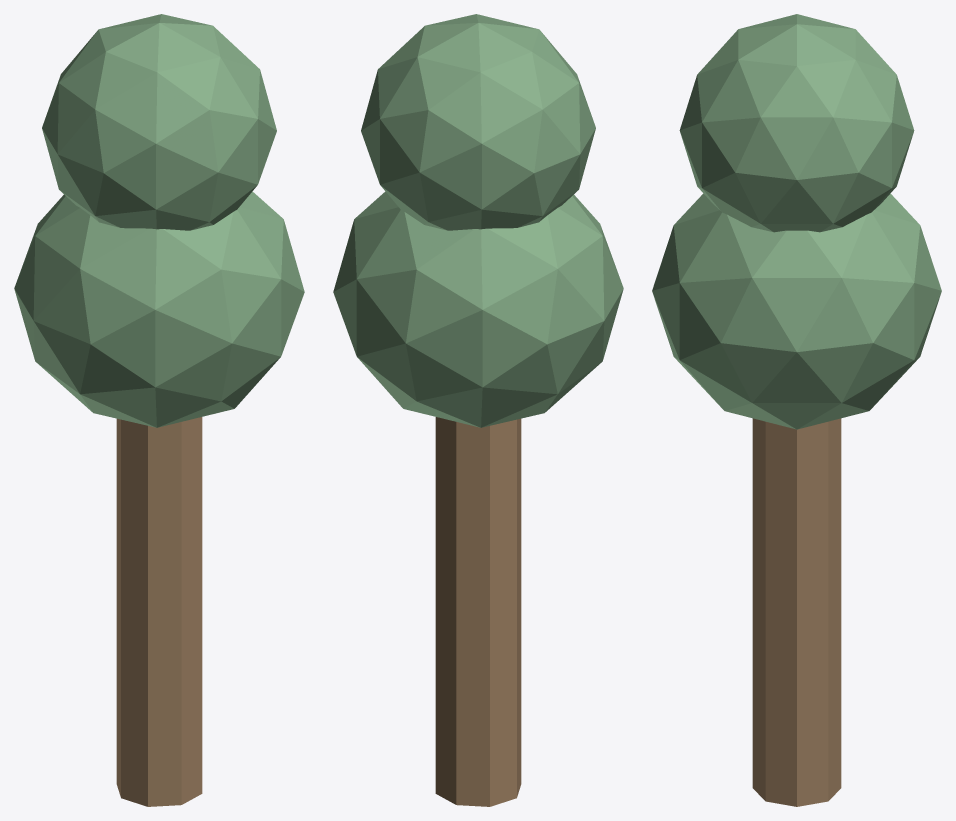
3 renders of one model, left to right at view 1: azimuth 30°, elevation 25°; view 2: azimuth 150°, elevation 25°; view 3: azimuth 270°, elevation 25°, orthographic.
Visible parts, largest first — view 1: Crown.Low, Crown.High, Trunk; view 2: Crown.Low, Crown.High, Trunk; view 3: Crown.Low, Crown.High, Trunk.
Boxes of the visible parts, x1,y1,x2,y2 form: Crown.Low: (14,191,304,427); Crown.High: (42,14,276,230); Trunk: (116,417,202,806); Crown.Low: (333,191,623,427); Crown.High: (361,14,595,230); Trunk: (435,417,521,806); Crown.Low: (652,193,941,429); Crown.High: (679,14,914,232); Trunk: (752,418,841,806).
Size of the model in its own units: 1.15 by 3.33 by 1.15.
